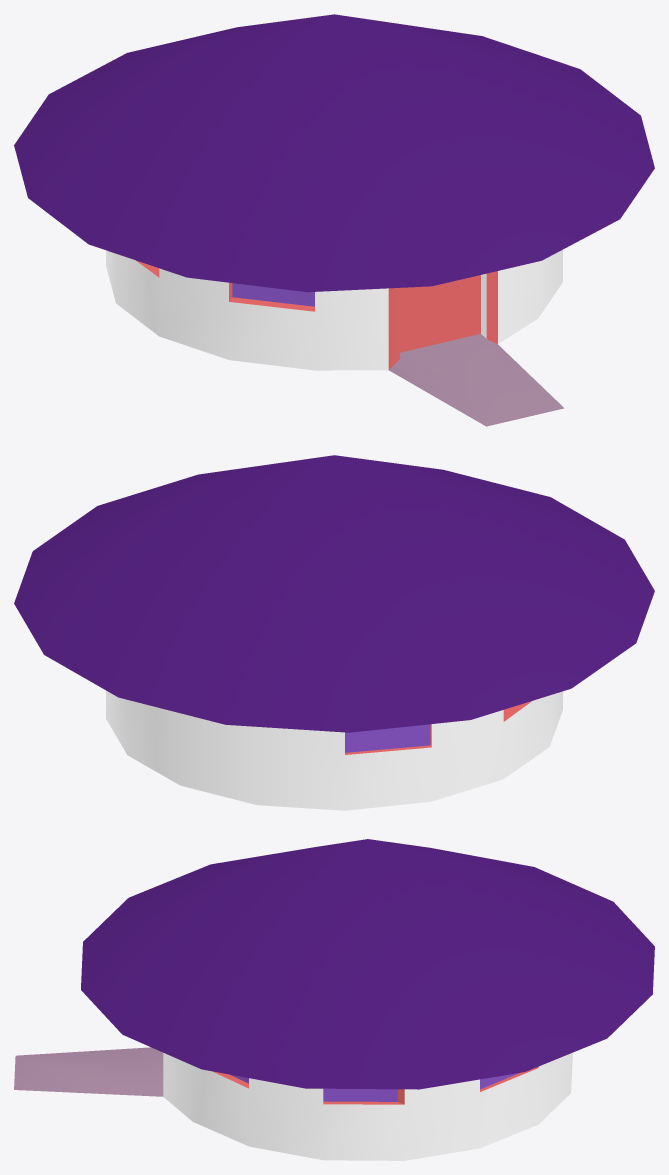
File: simple_house.glb
The picture shows the model from 3 angles, top to bottom: view 1: azimuth 30°, elevation 25°; view 2: azimuth 150°, elevation 25°; view 3: azimuth 270°, elevation 25°; orthographic projection. The views are drawn at different scales.
Parts seen in each view (by area): view 1: Cone; view 2: Cone; view 3: Cone.
Part boxes in pixels (x1=…): Cone: x1=14, y1=14, x2=654, y2=426; Cone: x1=14, y1=455, x2=654, y2=810; Cone: x1=14, y1=839, x2=654, y2=1160.
Size of the model in its own units: 6.81 by 3.08 by 7.6.
